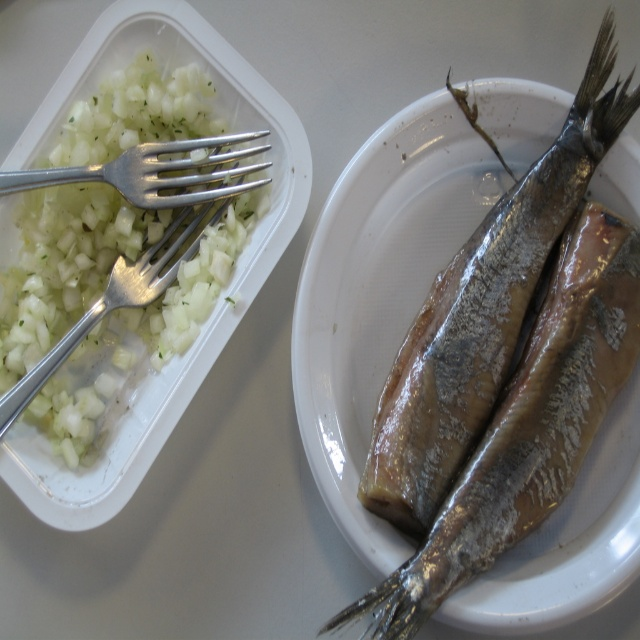Fish: (354, 0, 640, 537), (307, 195, 640, 639)
